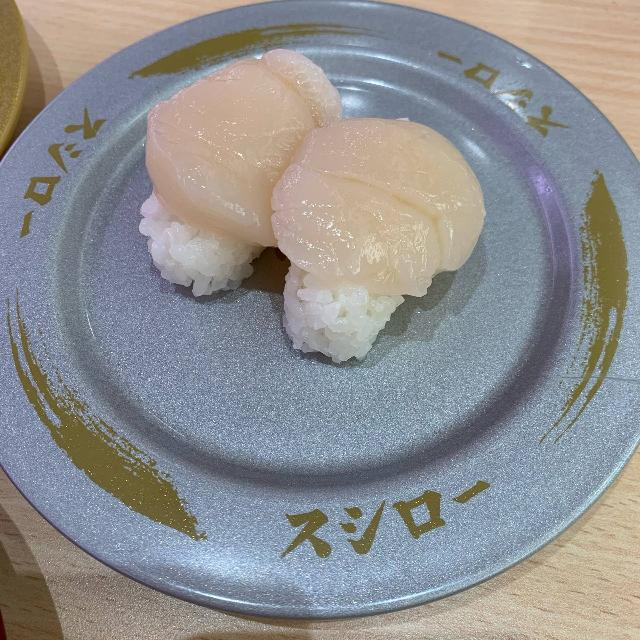jangold: (4, 0, 35, 159)
janwhite: (8, 30, 640, 557)
